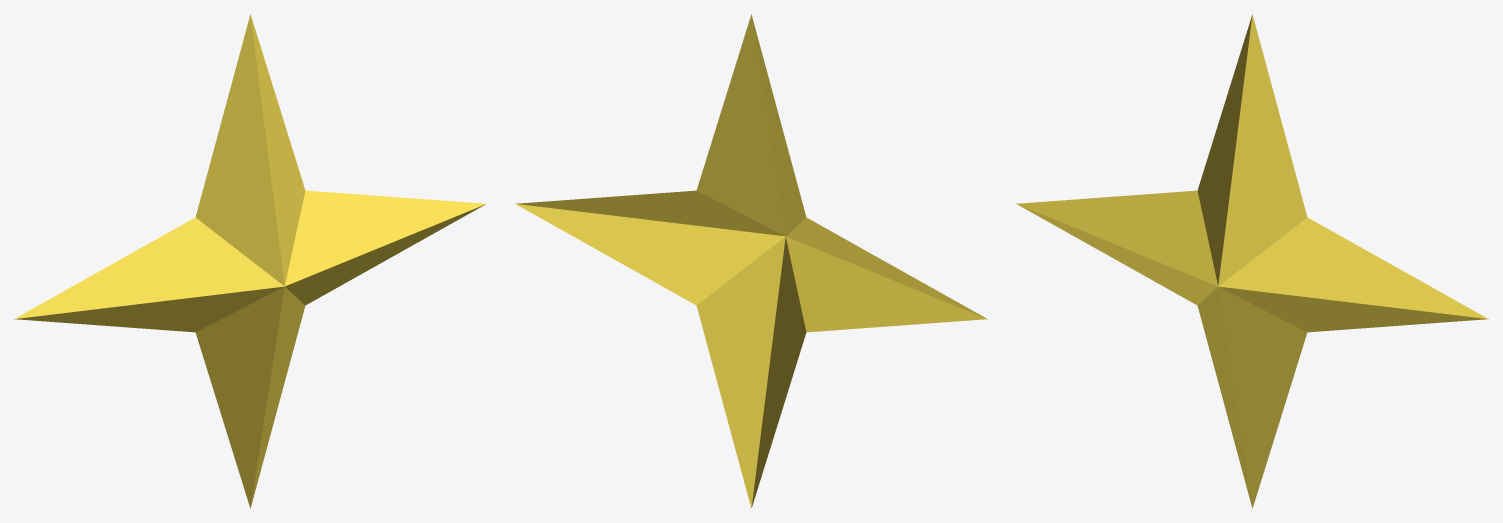
File: Star.fbx
3 renders of one model, left to right at view 1: azimuth 30°, elevation 25°; view 2: azimuth 150°, elevation 25°; view 3: azimuth 330°, elevation 25°, orthographic.
Parts seen in each view (by area): view 1: Plane.002; view 2: Plane.002; view 3: Plane.002.
Boxes of the visible parts, x1,y1,x2,y2 form: Plane.002: [14, 14, 486, 508]; Plane.002: [515, 14, 987, 508]; Plane.002: [1016, 14, 1488, 508].
Size of the model in its own units: 33.1 by 33.1 by 4.15.
Materials: 1 (1 with a texture image).
